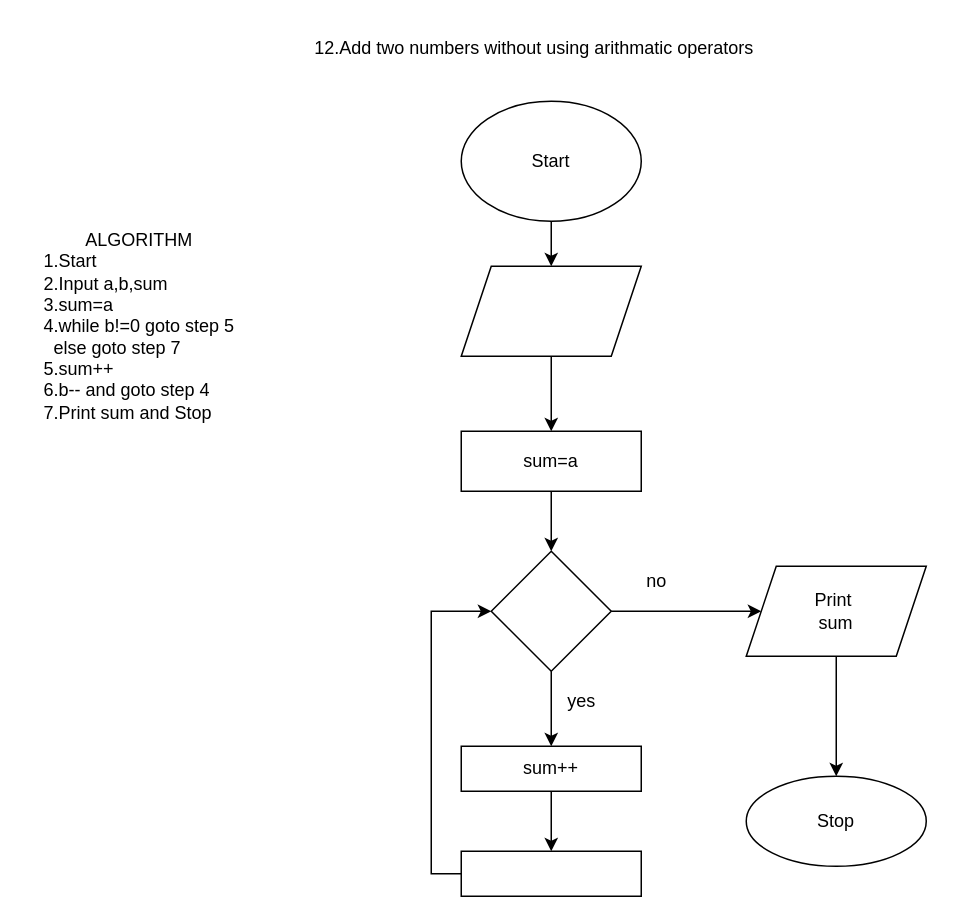
Image size: 953x923. Some labels were removed from this diagram. The centre of each missing label's shape, as x and y in pixels:
"b--" belongs at pixel 550 873.
"input a,b,sum" belongs at pixel 550 310.
"while b!=0" belongs at pixel 550 610.
